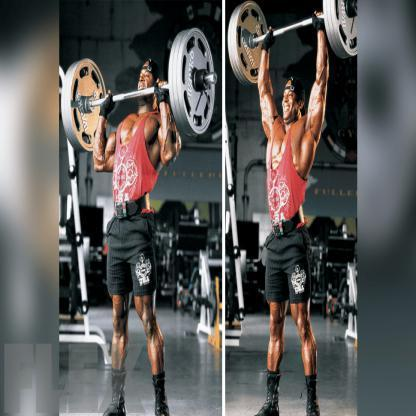barbell: (61, 30, 216, 152), (228, 1, 358, 85)
